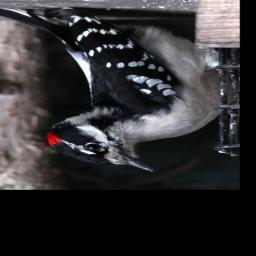Woodpecker: (0, 8, 232, 172)
